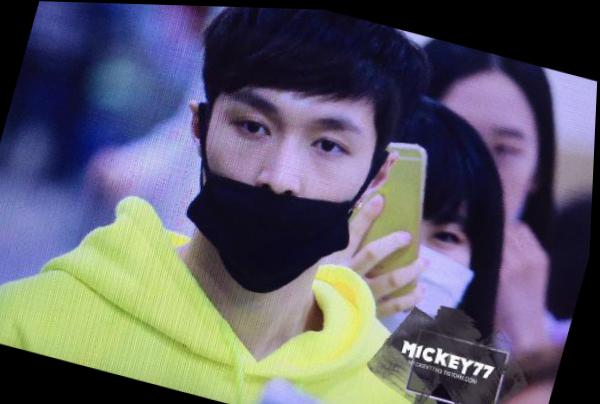OK: (319, 175, 495, 354)
WRONG: (169, 65, 388, 306)
